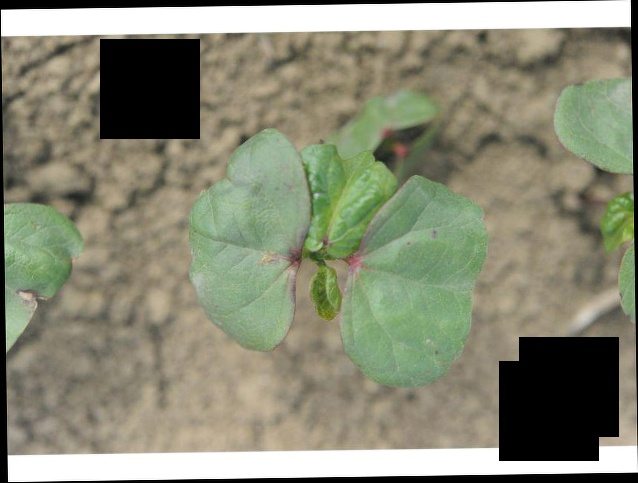cotton: (187, 123, 488, 390)
